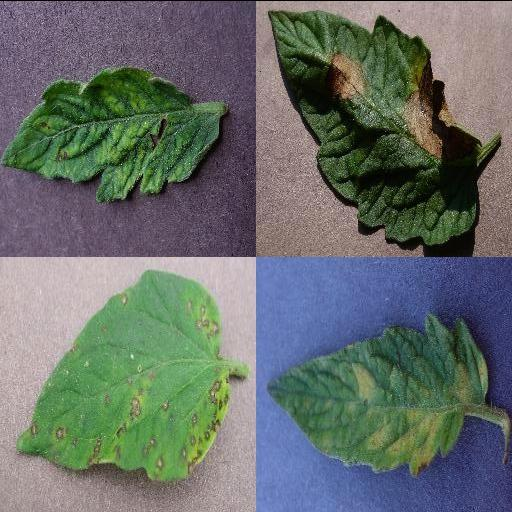Late Blight: (267, 9, 481, 247)
Leaf Mold: (267, 309, 489, 474)
Mosaic Virus: (0, 67, 220, 202)
Septoria: (16, 268, 232, 482)
